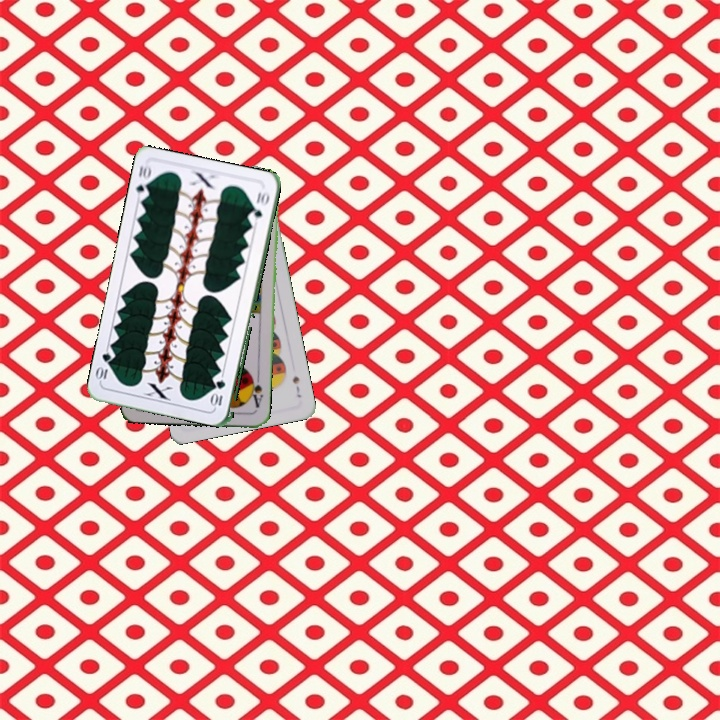G10: (132, 161, 154, 202), (210, 375, 228, 410)
S7: (288, 372, 304, 400)
SA: (246, 372, 265, 410)
